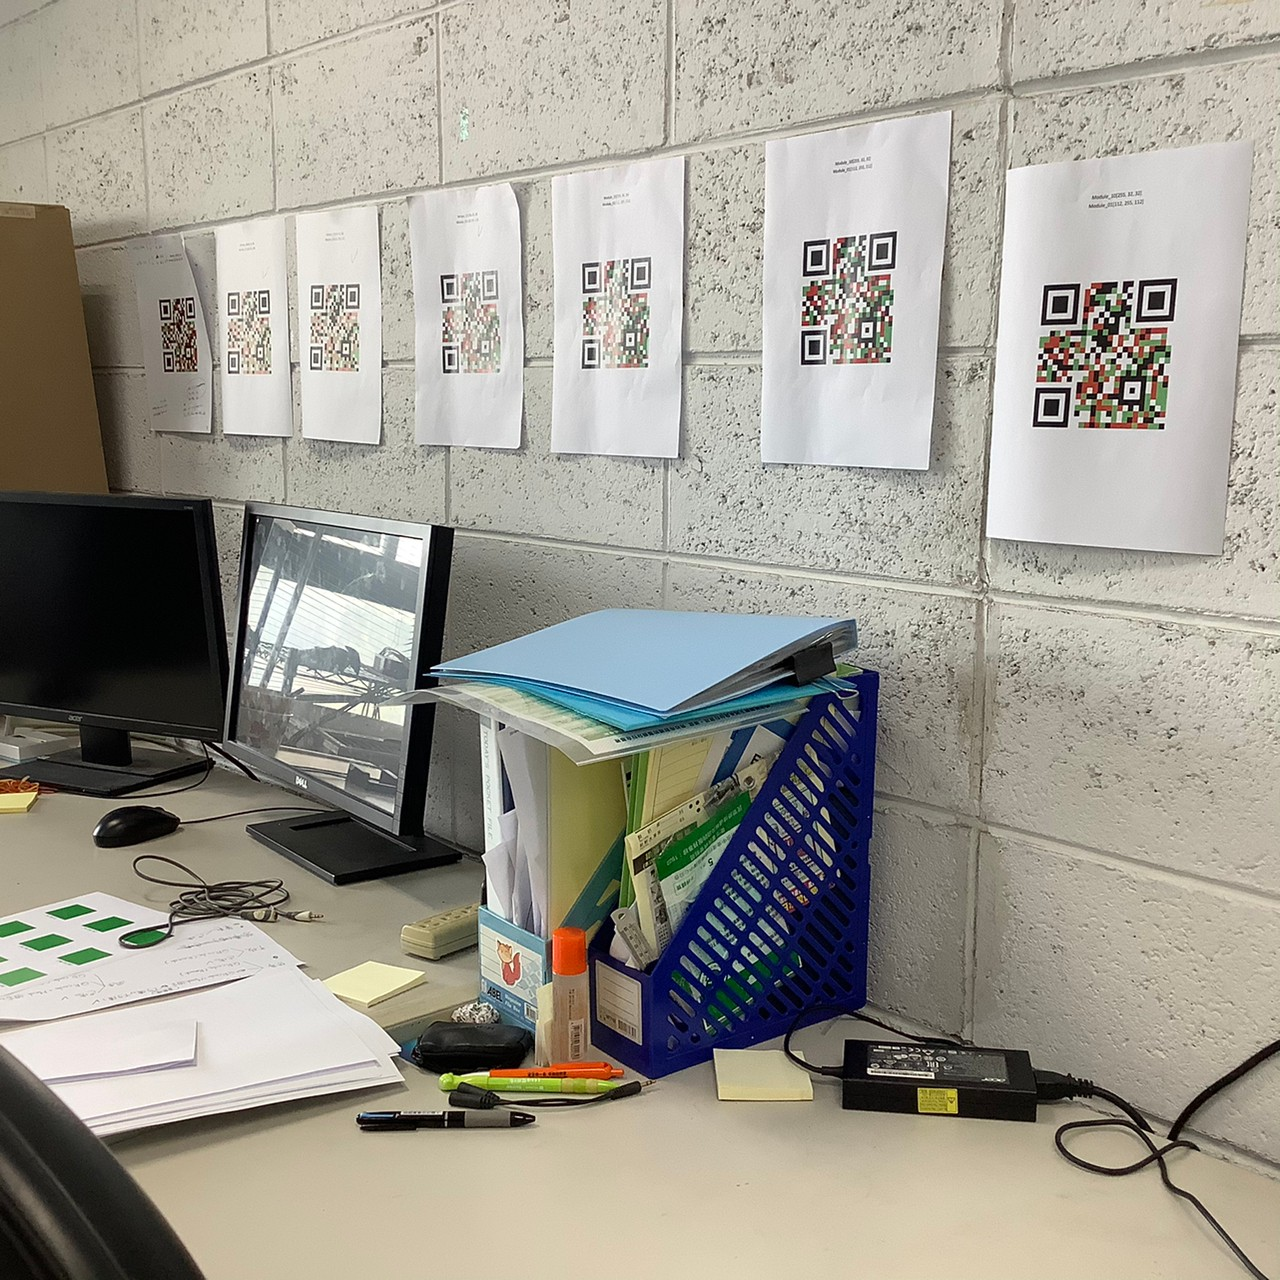QRCode: (1032, 277, 1178, 433), (799, 231, 898, 365), (580, 256, 652, 370), (440, 270, 502, 374), (309, 284, 361, 373), (227, 290, 272, 376), (157, 297, 200, 373)
